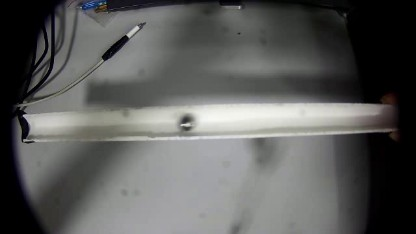gangzhu: (178, 113, 196, 131)
